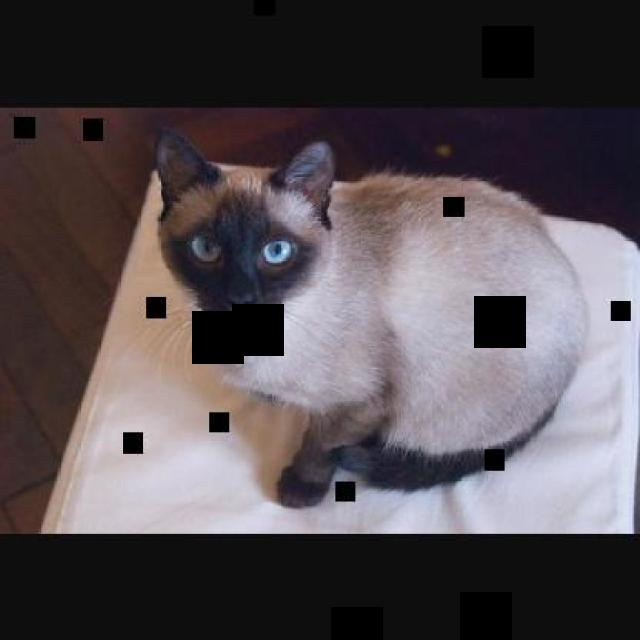unauthorized: (132, 125, 591, 508)
